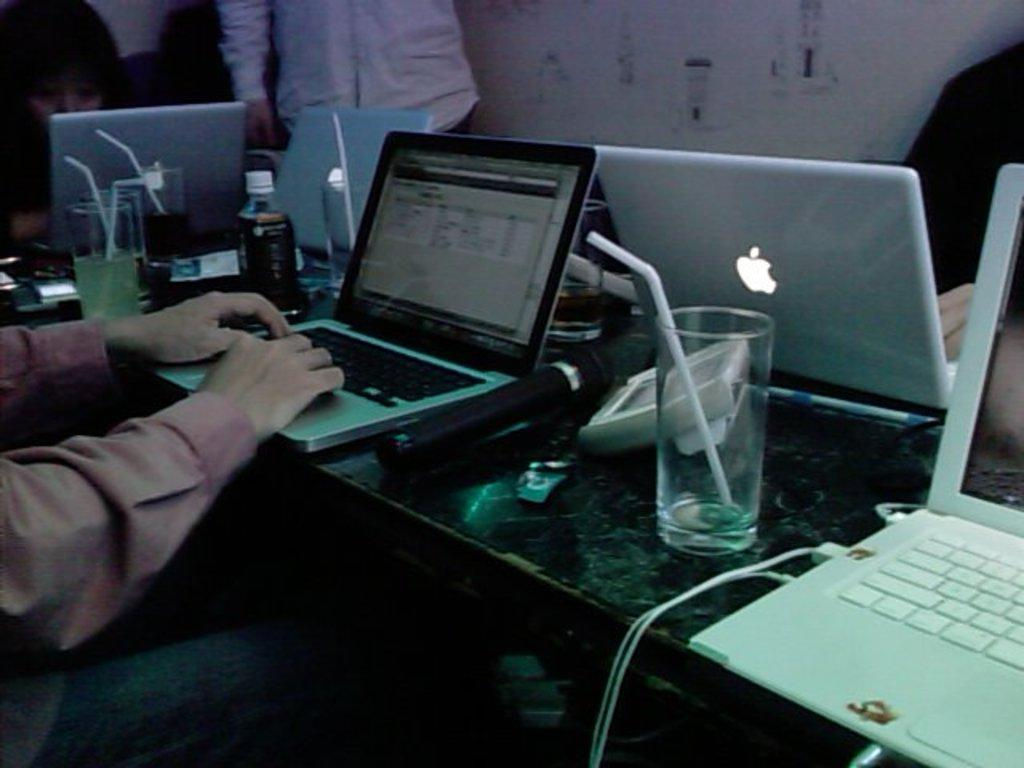Computer-keyboard: (838, 528, 1022, 669), (256, 323, 490, 408)
